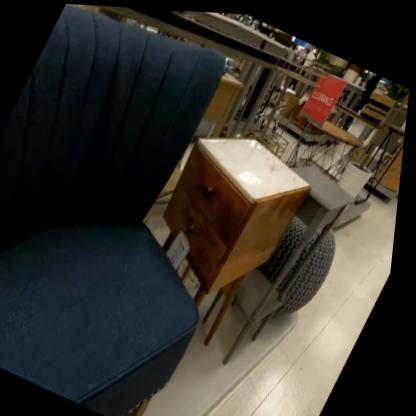Nightstand: (133, 106, 323, 319)
